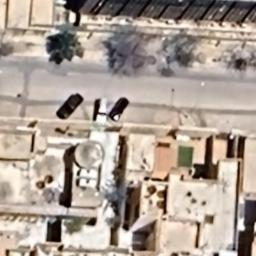sedan: (56, 90, 86, 120)
unknown: (110, 93, 132, 124)
van: (92, 95, 110, 127)
